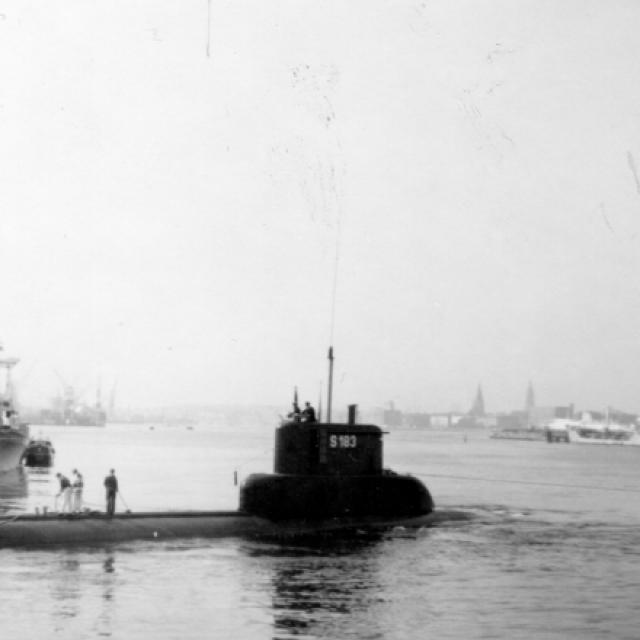submarine: (1, 423, 484, 558)
